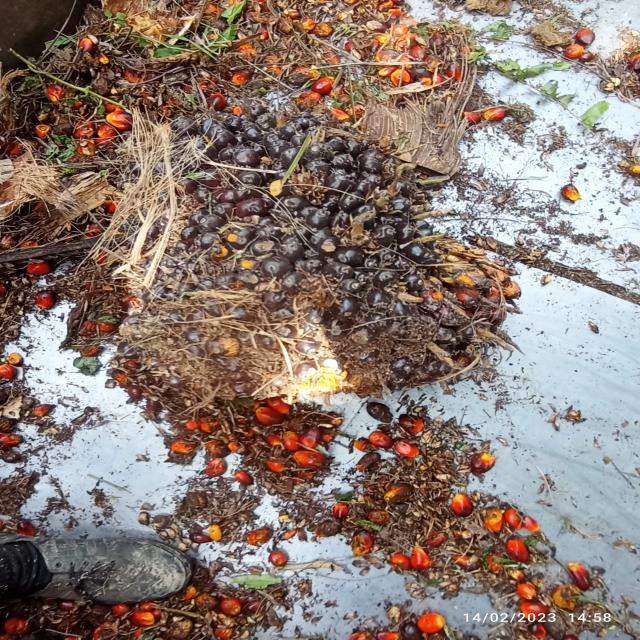fraksi 00: (101, 92, 524, 424)
